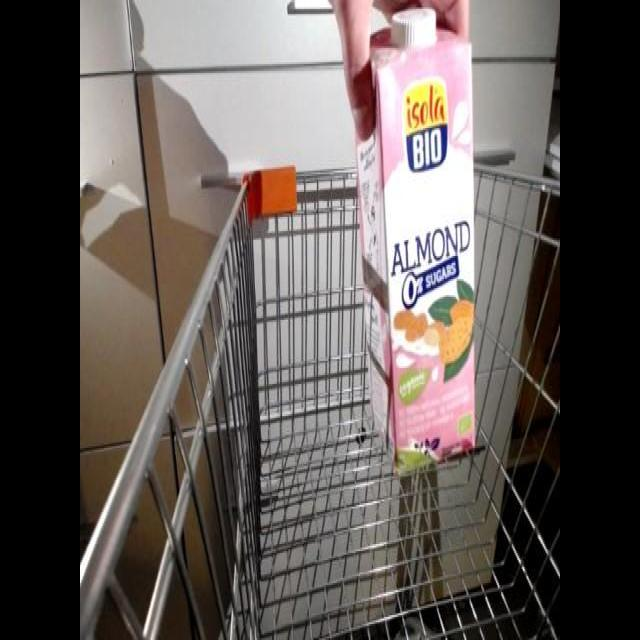Almond Milk: (352, 1, 482, 506)
